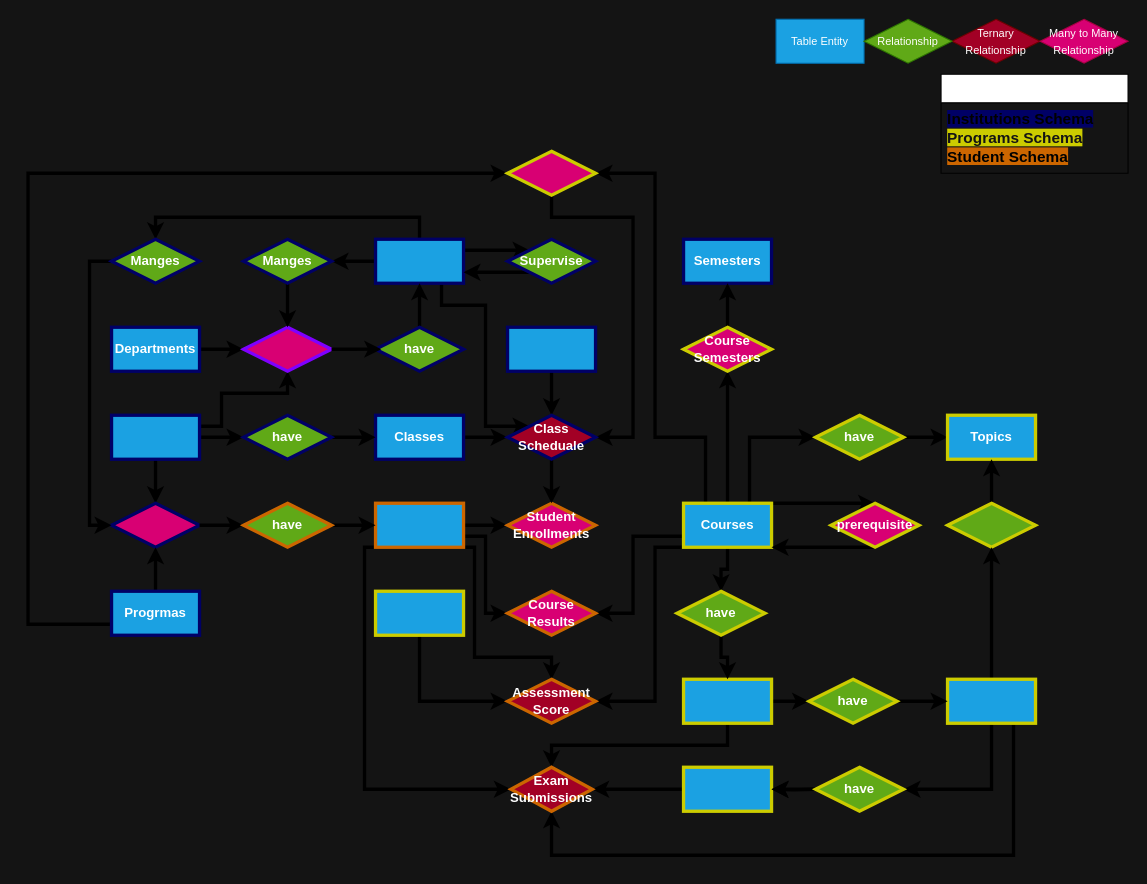
Image size: 1147x884. Some labels were removed from this diagram. Here are the shapes that lost their labels. From the top down, the box of each, then its label:
(940, 73, 1128, 173): Border Color Legend
(505, 149, 597, 196): Program Courses
(373, 237, 465, 284): Instructors
(241, 325, 333, 372): Institution Departments
(505, 325, 597, 372): TimeSlots
(109, 413, 201, 460): Institutions
(109, 501, 201, 548): Institution Programs
(373, 501, 465, 548): Students
(945, 501, 1037, 548): From
(373, 589, 465, 636): Assessments
(681, 677, 773, 724): Exams
(945, 677, 1037, 724): Questions
(681, 765, 773, 812): Answers
